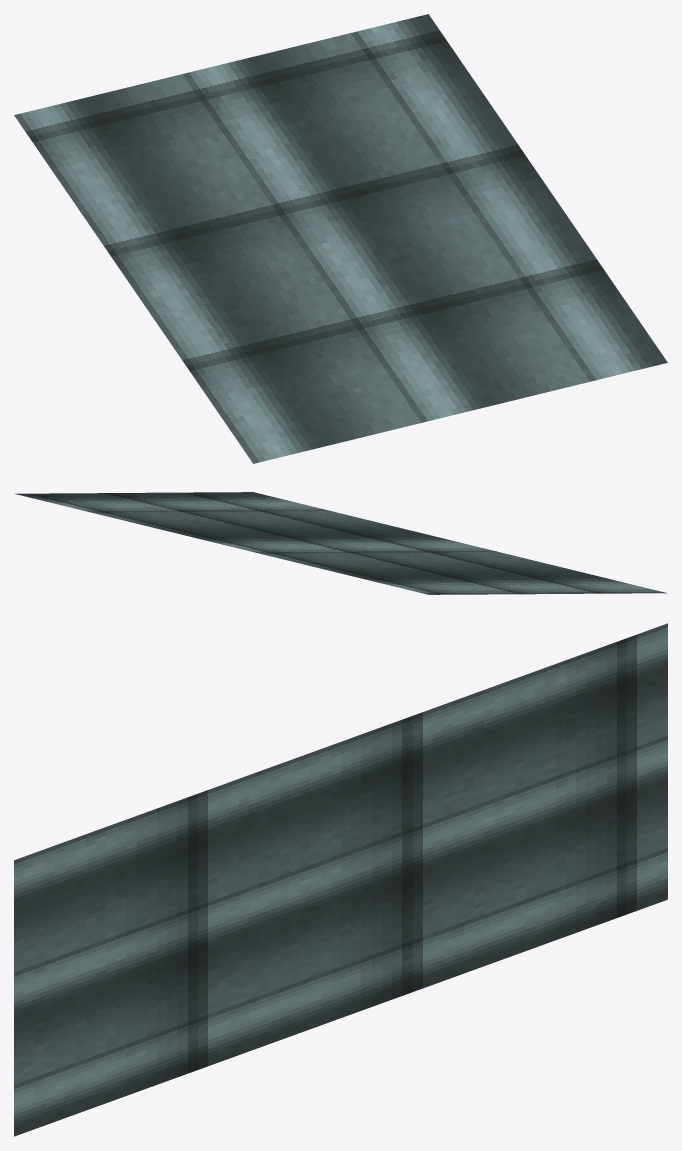
Rendered from roof_edge_mid_1.glb.
The picture shows the model from 3 angles, top to bottom: view 1: azimuth 30°, elevation 25°; view 2: azimuth 150°, elevation 25°; view 3: azimuth 270°, elevation 25°; orthographic projection. The views are drawn at different scales.
Parts seen in each view (by area): view 1: roof_edge_mid_1; view 2: roof_edge_mid_1; view 3: roof_edge_mid_1.
Boxes of the visible parts, x1=… form: roof_edge_mid_1: x1=14, y1=14, x2=667, y2=463; roof_edge_mid_1: x1=14, y1=492, x2=667, y2=594; roof_edge_mid_1: x1=14, y1=623, x2=667, y2=1136.
Bounding box in the file's own units: 1 × 0.4 × 1.
Materials: 1 (1 with a texture image).
